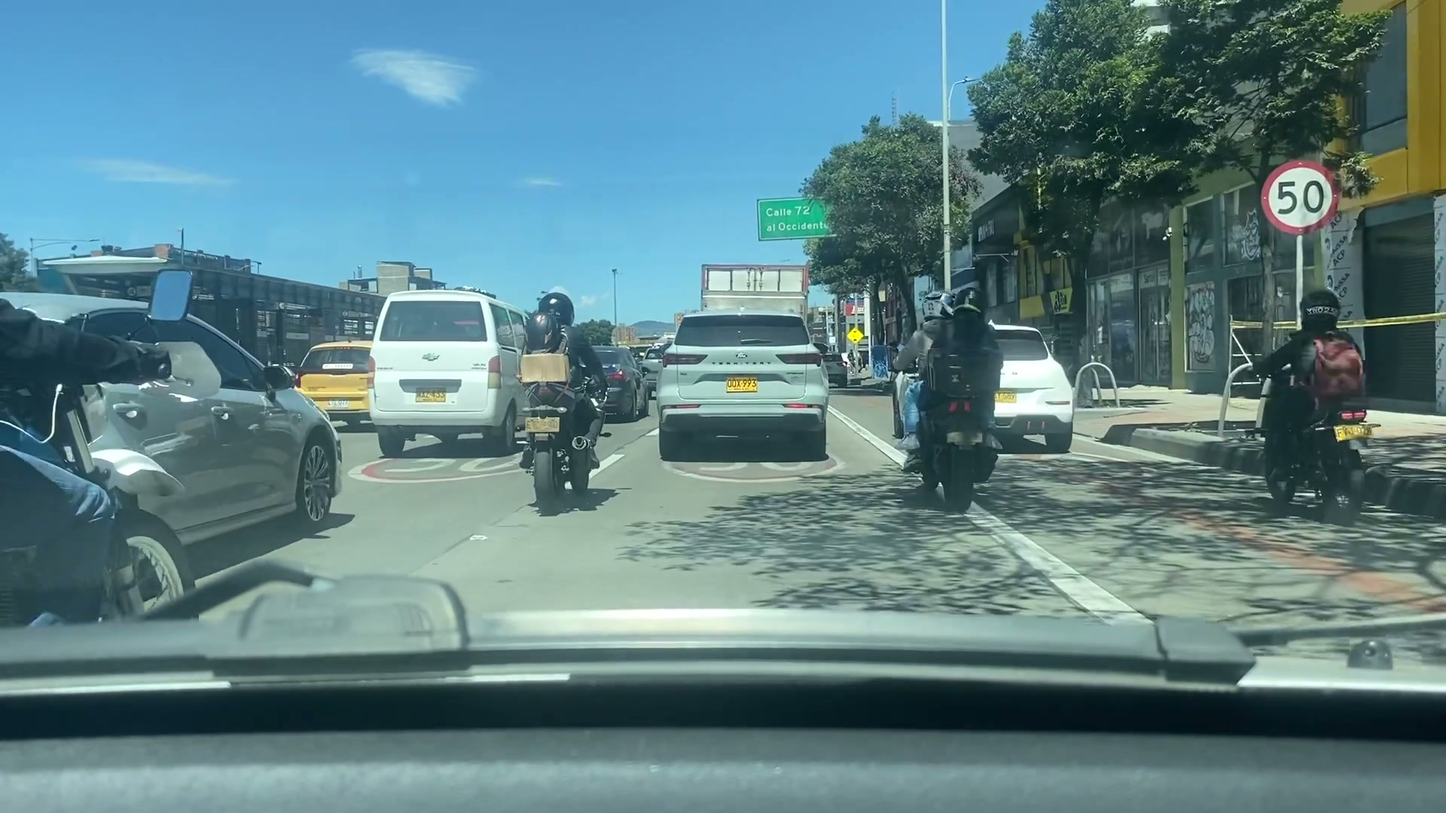bus: (371, 291, 532, 462)
car: (0, 289, 366, 538), (885, 318, 1075, 456), (652, 315, 828, 453), (289, 341, 378, 429), (578, 343, 654, 418), (817, 353, 851, 385)
person: (1245, 285, 1370, 485)
truck: (696, 263, 811, 318)
